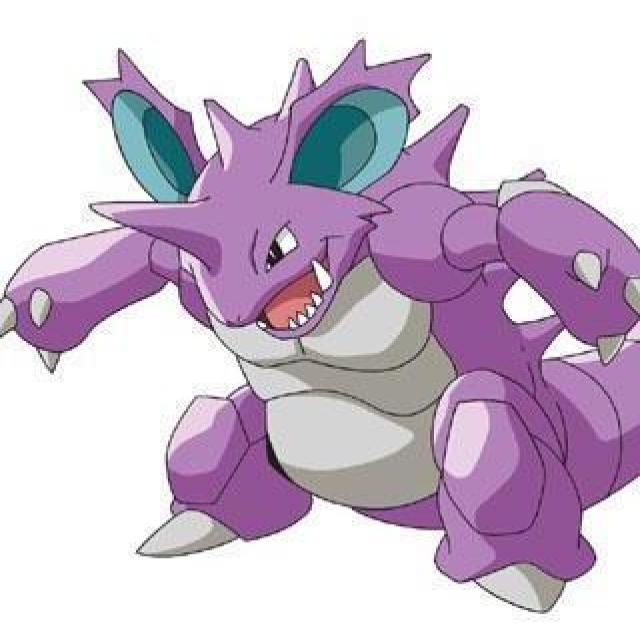Nidoking: (0, 41, 640, 613)
